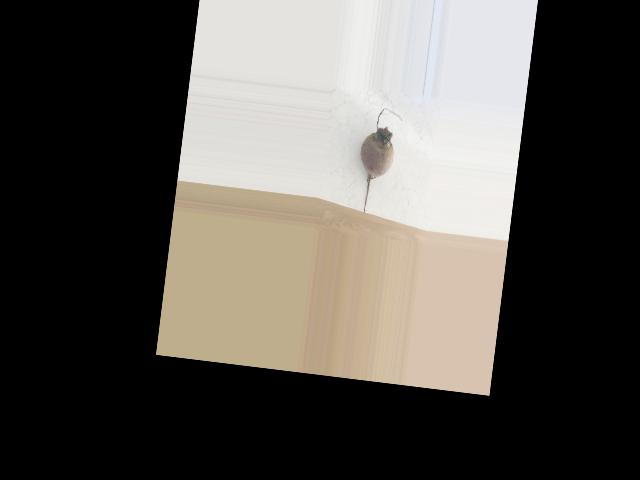beet: (352, 106, 403, 218)
